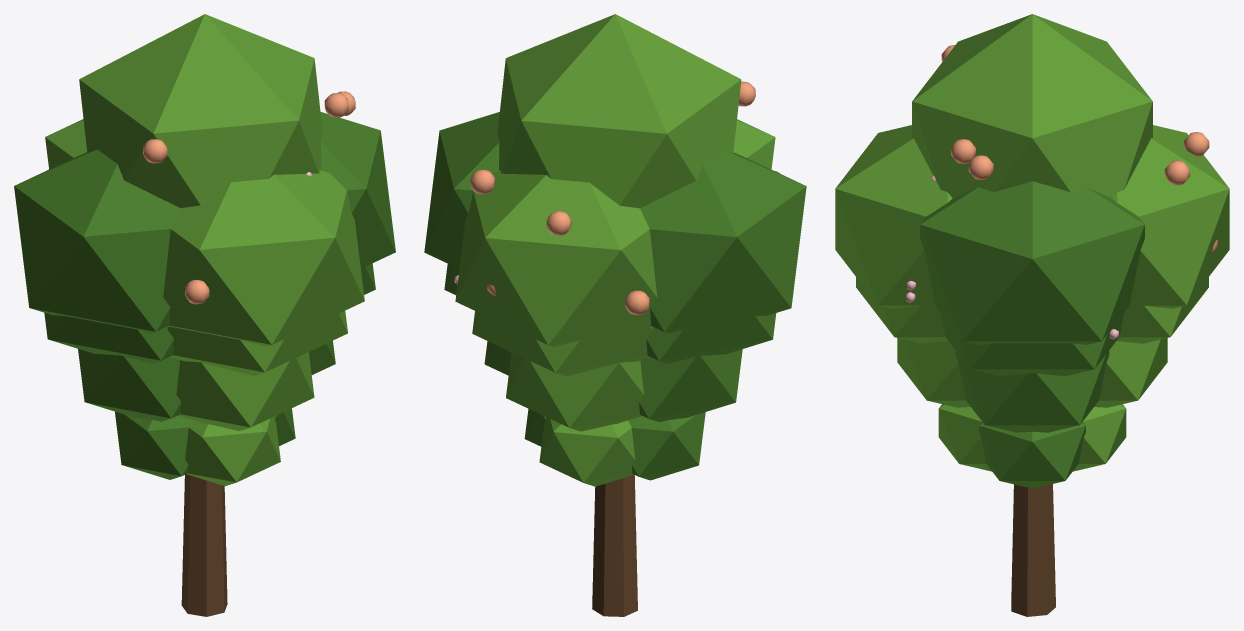
Rendered from Crop_Fruit_Peach.fbx.
3 renders of one model, left to right at view 1: azimuth 30°, elevation 25°; view 2: azimuth 150°, elevation 25°; view 3: azimuth 270°, elevation 25°, orthographic.
Visible parts, largest first — view 1: Crop_Fruit_Peach__S4, Crop_Fruit_Peach__S2, Crop_Fruit_Peach__S1, Crop_Fruit_Peach__S3; view 2: Crop_Fruit_Peach__S4, Crop_Fruit_Peach__S2, Crop_Fruit_Peach__S1, Crop_Fruit_Peach__S3; view 3: Crop_Fruit_Peach__S4, Crop_Fruit_Peach__S2, Crop_Fruit_Peach__S3, Crop_Fruit_Peach__S1.
Part boxes in pixels (x1,y1,x2,y2): Crop_Fruit_Peach__S4: (14, 14, 395, 616); Crop_Fruit_Peach__S2: (78, 340, 335, 430); Crop_Fruit_Peach__S1: (115, 408, 295, 486); Crop_Fruit_Peach__S3: (44, 172, 375, 375); Crop_Fruit_Peach__S4: (424, 14, 806, 616); Crop_Fruit_Peach__S2: (484, 341, 742, 431); Crop_Fruit_Peach__S1: (524, 409, 705, 486); Crop_Fruit_Peach__S3: (444, 264, 776, 376); Crop_Fruit_Peach__S4: (835, 14, 1229, 616); Crop_Fruit_Peach__S2: (897, 338, 1167, 432); Crop_Fruit_Peach__S3: (856, 175, 1208, 376); Crop_Fruit_Peach__S1: (938, 404, 1126, 488).
Bounding box in the file's own units: 0.551 × 0.888 × 0.5353.
